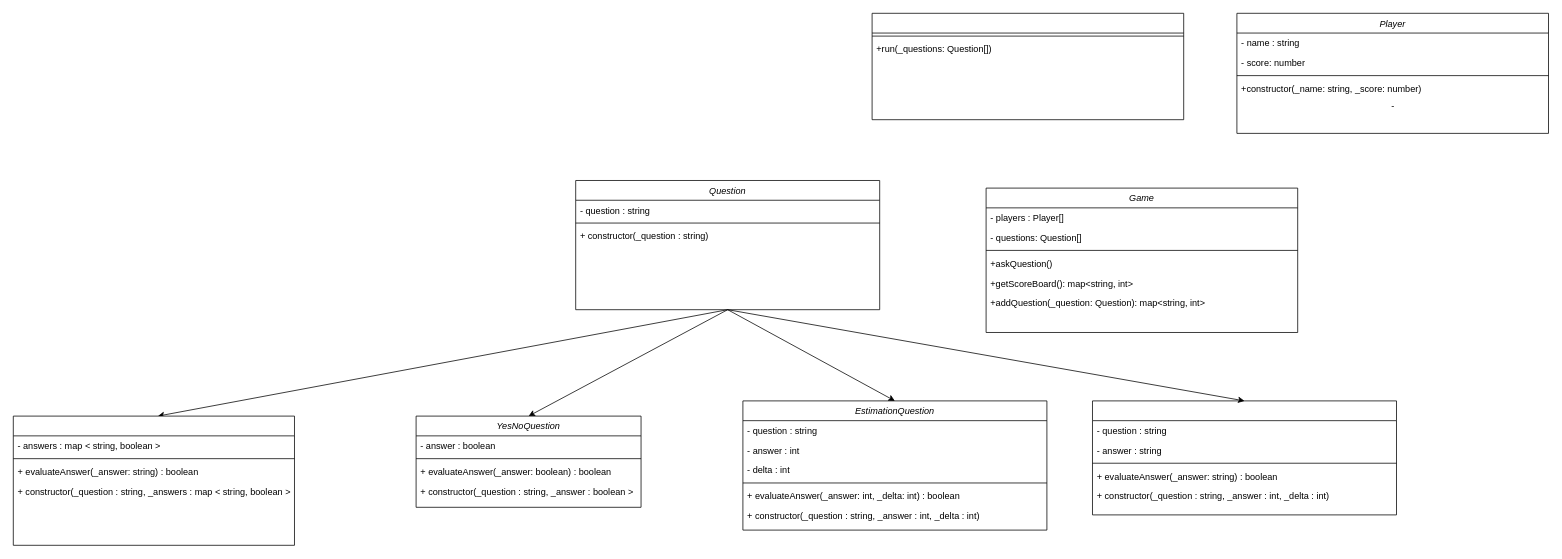
Some shapes in this 1562 by 559 pixel diagram are drawn without their labels. Each missing label, with the box of its shape:
FreetextQuestion: (1092, 400, 1396, 515)
Main: (871, 13, 1184, 120)
MultipleAnswersQuestion: (13, 415, 294, 545)
